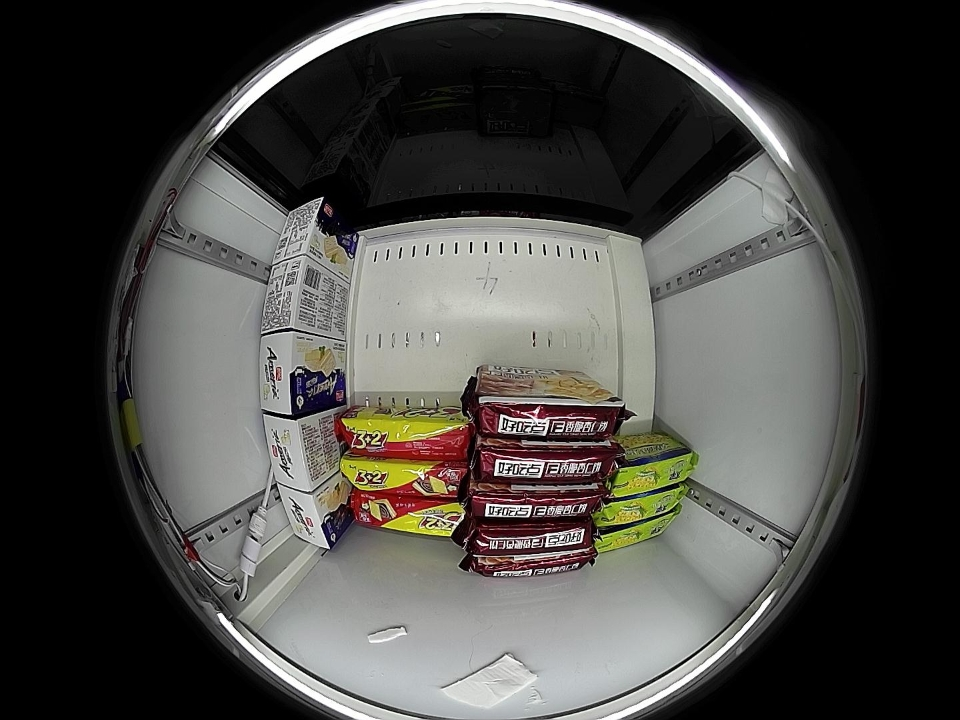3jia2: (340, 409, 470, 458), (341, 455, 467, 497), (351, 494, 466, 537)
haochidian: (473, 383, 625, 438), (475, 439, 620, 480), (469, 481, 608, 520), (463, 520, 596, 553), (460, 552, 599, 579)
meiniye: (263, 412, 331, 493), (260, 331, 322, 417), (261, 255, 327, 335), (276, 480, 342, 551), (272, 196, 338, 265)
taipingshuda: (604, 442, 699, 499), (593, 509, 680, 554), (596, 488, 686, 525)
